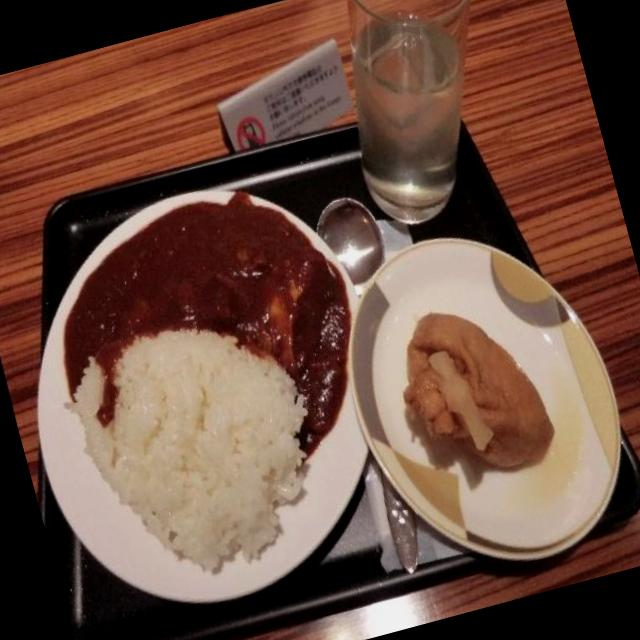Beef Curry: (34, 172, 351, 394)
Rice: (68, 328, 334, 596)
